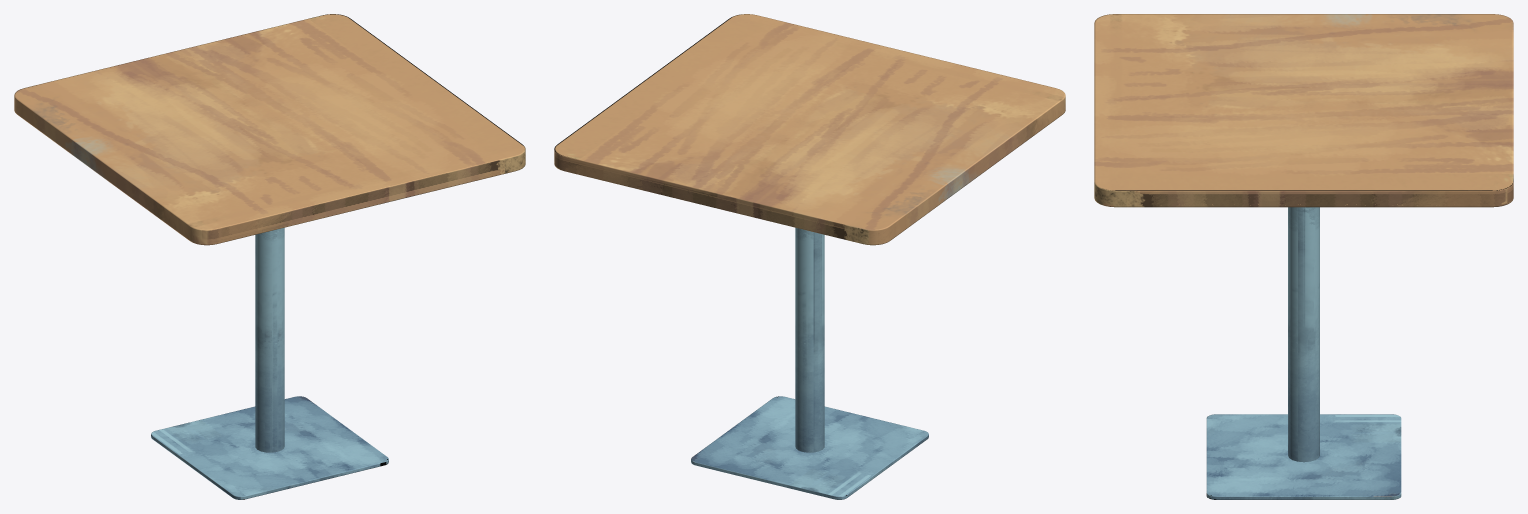
The model's file is LO_cafe_table.glb.
3 views of the same model, side by side, from view 1: azimuth 30°, elevation 25°; view 2: azimuth 150°, elevation 25°; view 3: azimuth 270°, elevation 25° (orthographic). The views are drawn at different scales.
Visible parts, largest first — view 1: Chocofur_Free_Table_05; view 2: Chocofur_Free_Table_05; view 3: Chocofur_Free_Table_05.
Boxes of the visible parts, left/top/right/bottom form: Chocofur_Free_Table_05: left=14, top=14, right=525, bottom=499; Chocofur_Free_Table_05: left=554, top=14, right=1065, bottom=499; Chocofur_Free_Table_05: left=1094, top=14, right=1513, bottom=499.
Size of the model in its own units: 0.7984 by 0.7504 by 0.7999.
Materials: 1 (1 with a texture image).
